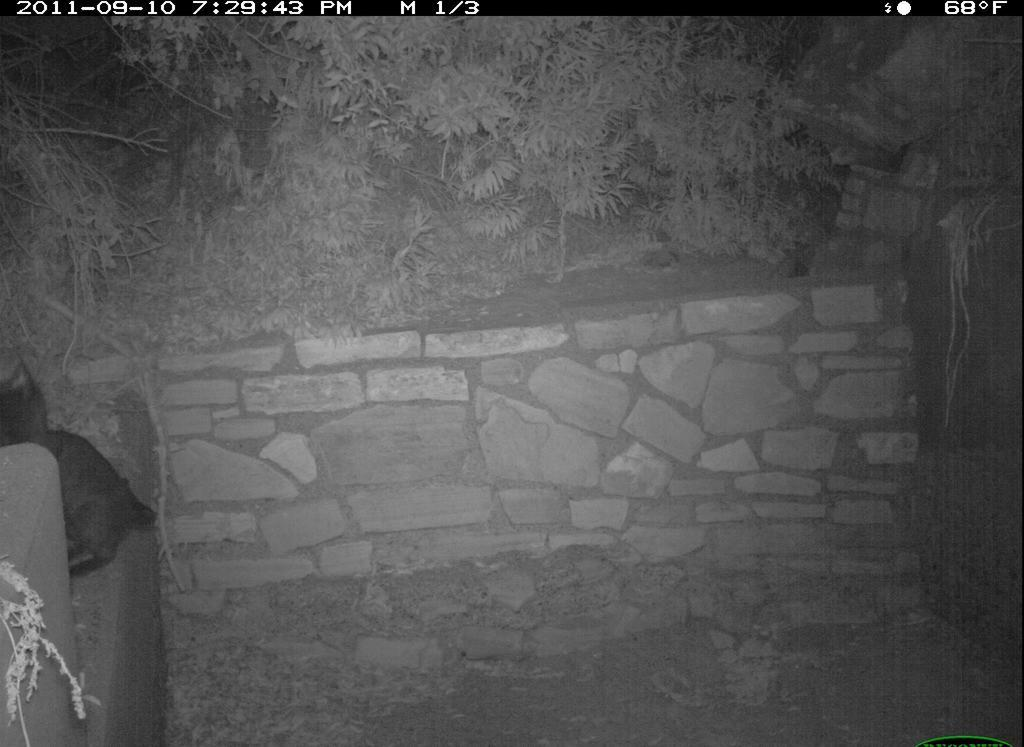cat: (1, 349, 173, 587)
